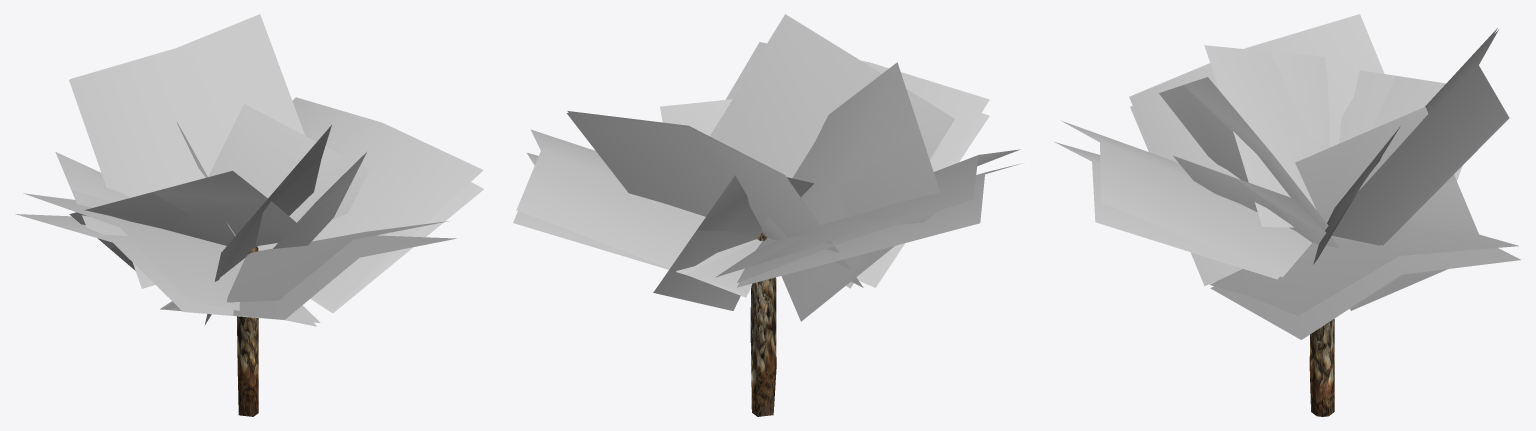
The model's file is palm_tree_12_LOD1.FBX.
3 views of the same model, side by side, from view 1: azimuth 30°, elevation 25°; view 2: azimuth 150°, elevation 25°; view 3: azimuth 270°, elevation 25° (orthographic). The views are drawn at different scales.
Parts seen in each view (by area): view 1: leaves010, bark010; view 2: leaves010, bark010; view 3: leaves010, bark010.
Boxes of the visible parts, left/top/right/bottom form: leaves010: left=15, top=14, right=483, bottom=326; bark010: left=237, top=246, right=258, bottom=416; leaves010: left=513, top=14, right=1020, bottom=321; bark010: left=750, top=233, right=776, bottom=416; leaves010: left=1054, top=14, right=1520, bottom=339; bark010: left=1309, top=319, right=1334, bottom=416.
Bounding box in the file's own units: 4.14 × 3.44 × 2.85.
